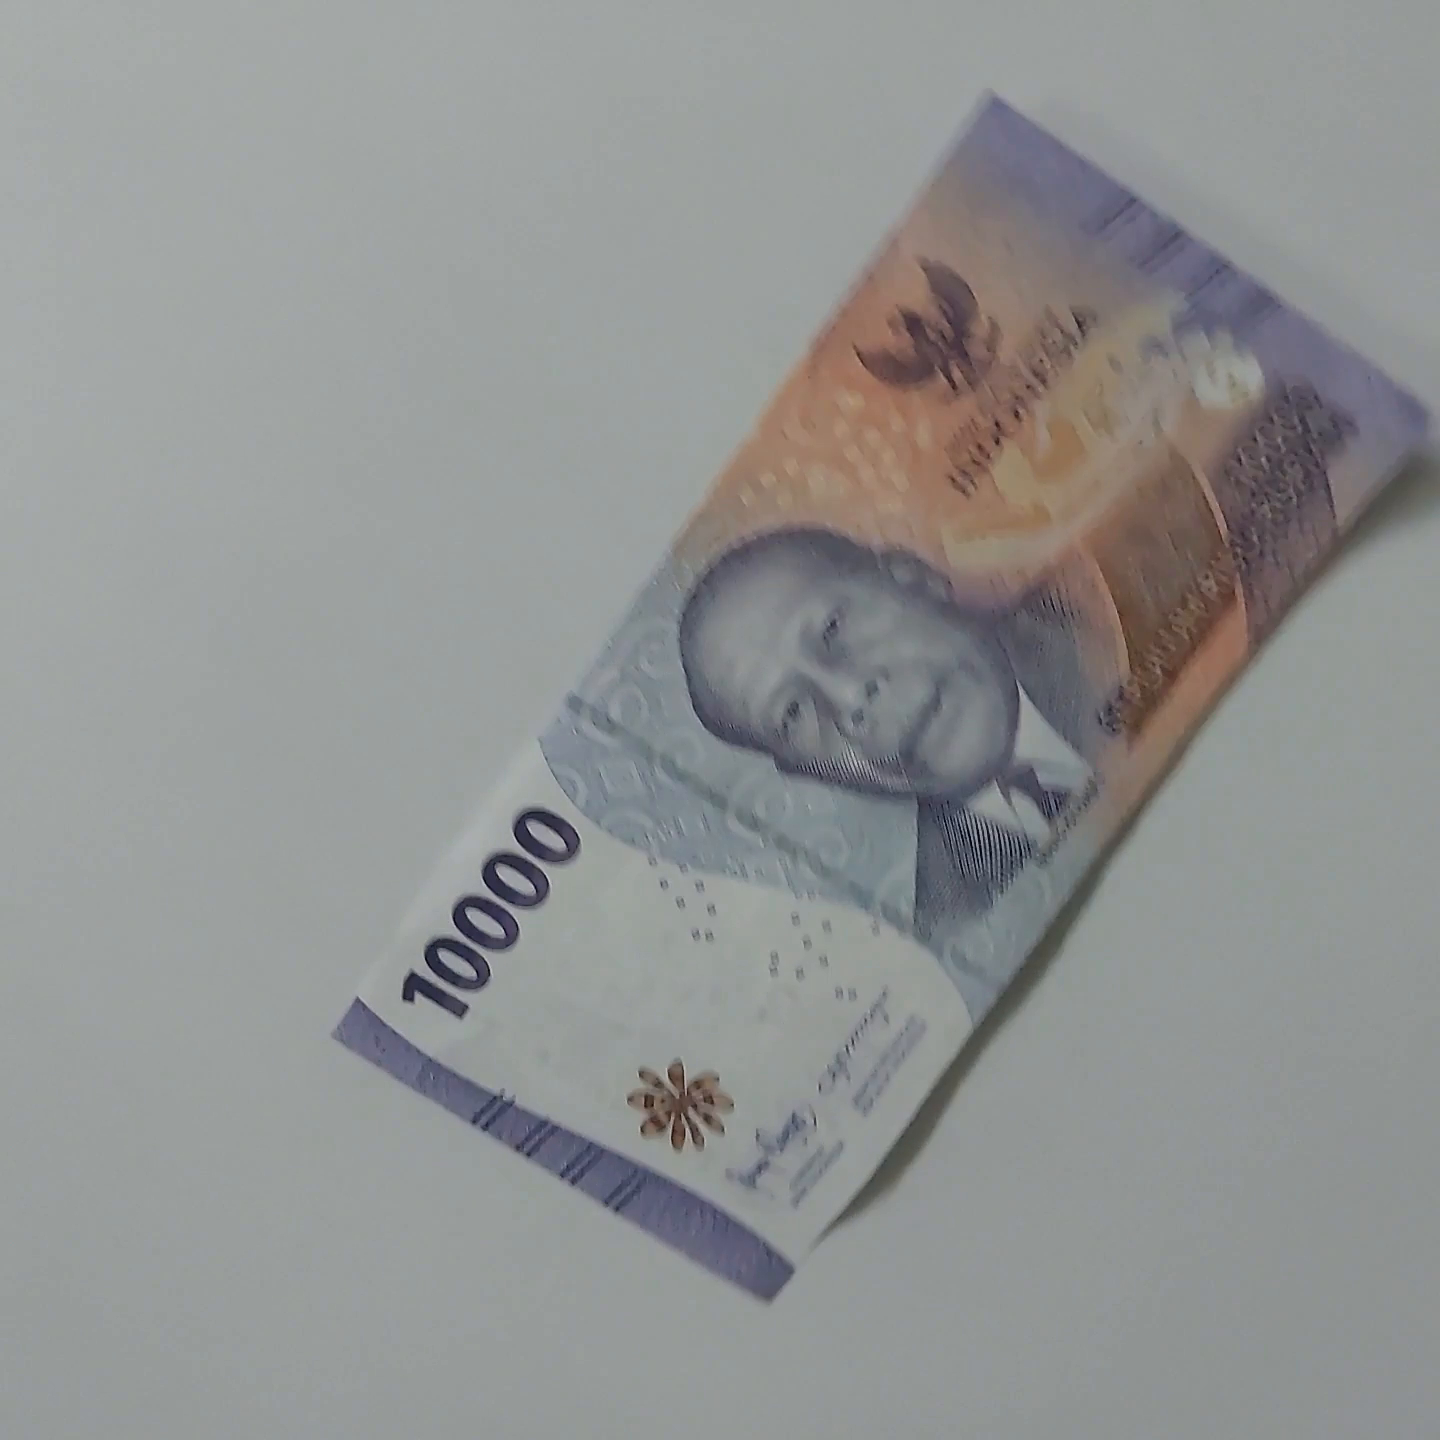10k: (331, 0, 1437, 1399)
